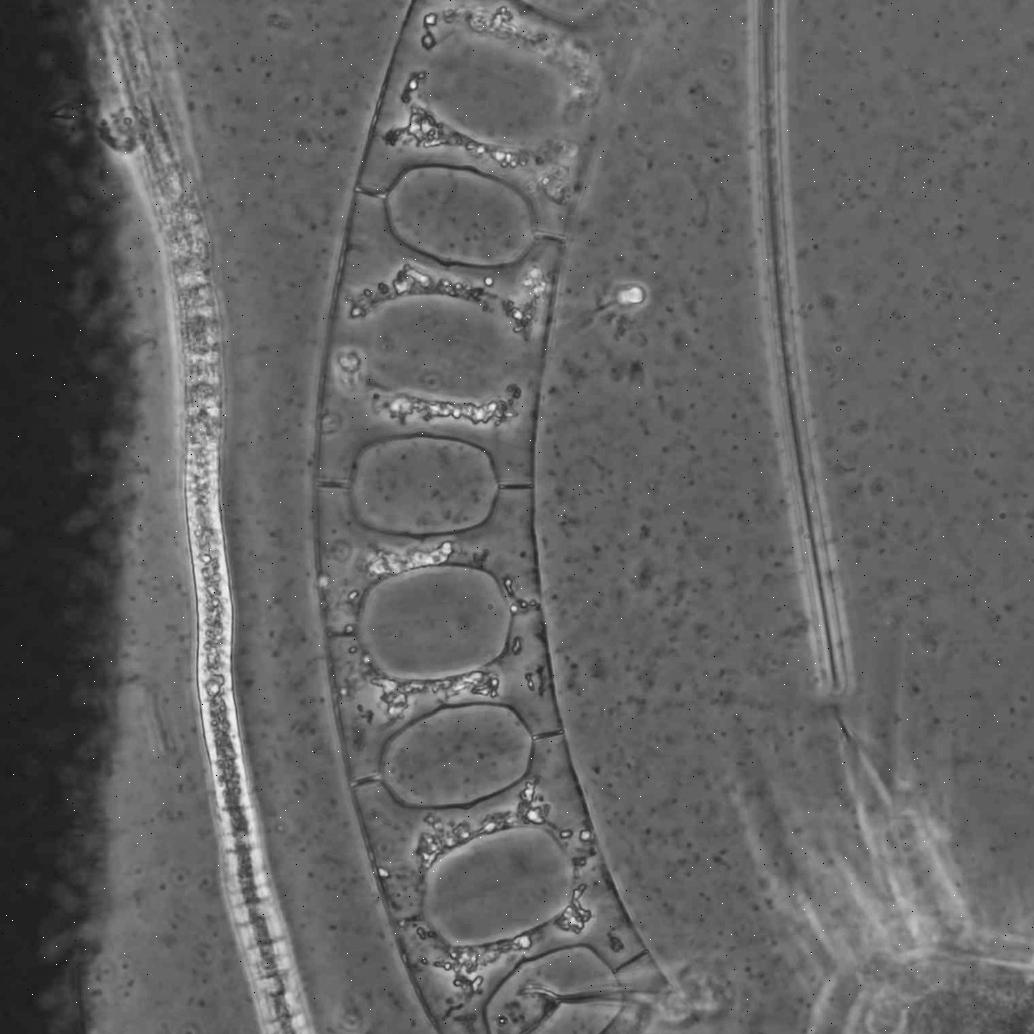eucampia_zodiacus: (313, 0, 665, 1034)
